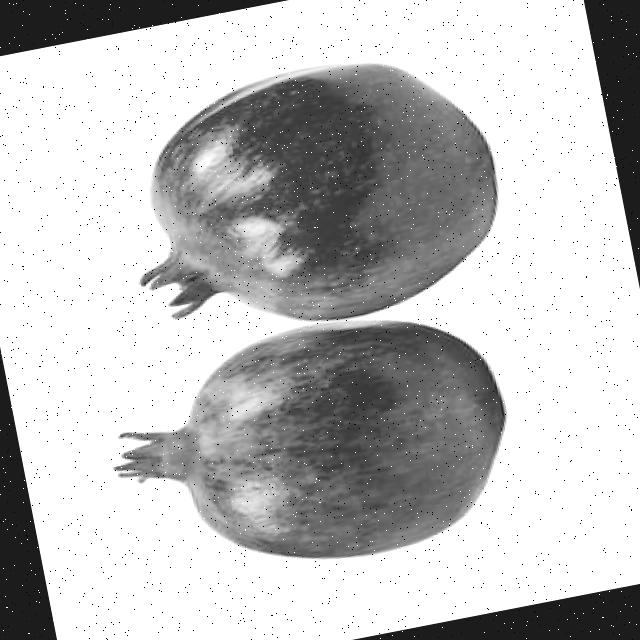Pomegranate: (104, 34, 520, 357), (90, 294, 524, 601)
